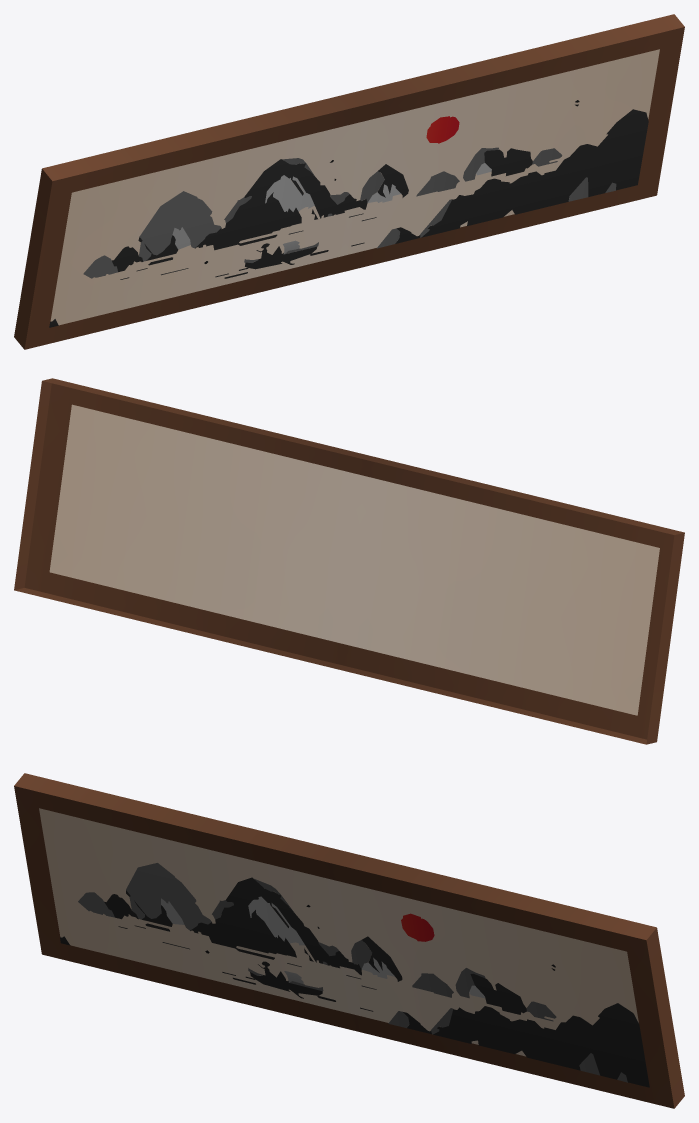
File: SK_Sign_001.FBX
The picture shows the model from 3 angles, top to bottom: view 1: azimuth 30°, elevation 25°; view 2: azimuth 150°, elevation 25°; view 3: azimuth 330°, elevation 25°; orthographic projection.
Visible parts, largest first — view 1: SK_Sign_001; view 2: SK_Sign_001; view 3: SK_Sign_001.
Boxes of the visible parts, box(x1,y1,x2,y2) form: SK_Sign_001: box(14, 14, 684, 349); SK_Sign_001: box(14, 378, 684, 744); SK_Sign_001: box(14, 773, 684, 1108).
Size of the model in its own units: 258 by 75.72 by 27.21.
Materials: 1 (1 with a texture image).
